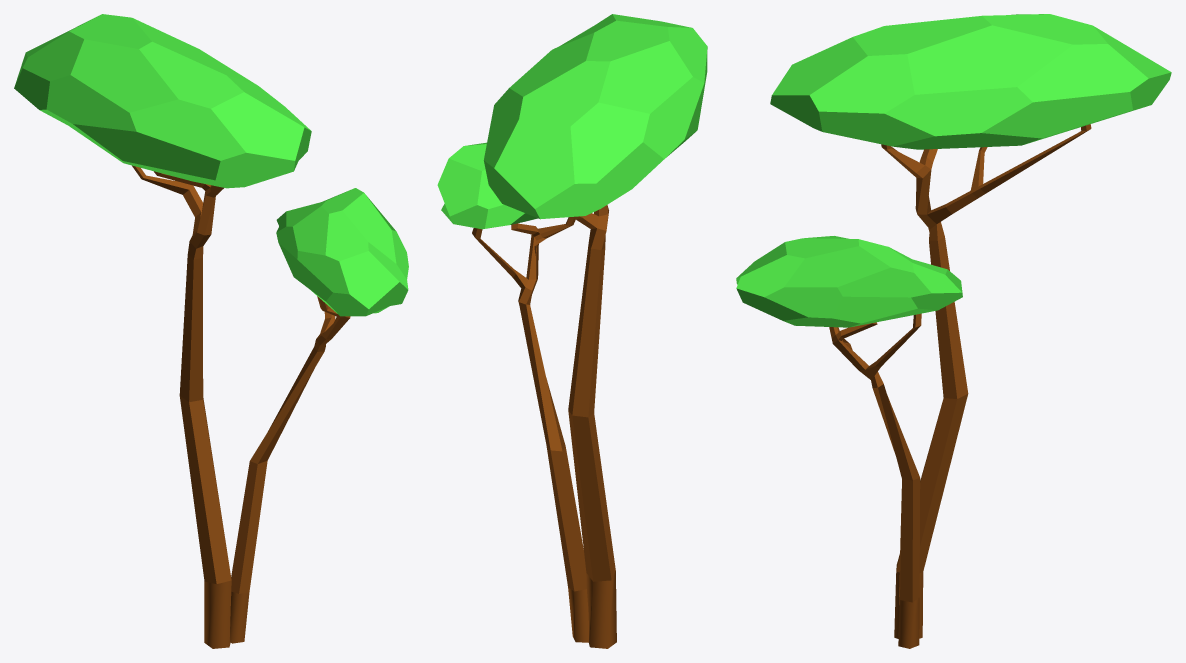
Rendered from tree2.FBX.
3 views of the same model, side by side, from view 1: azimuth 30°, elevation 25°; view 2: azimuth 150°, elevation 25°; view 3: azimuth 270°, elevation 25° (orthographic). The views are drawn at different scales.
Parts seen in each view (by area): view 1: Cylinder001; view 2: Cylinder001; view 3: Cylinder001.
Part boxes in pixels (box(x1,y1,x2,y2)): Cylinder001: box(14, 14, 408, 648); Cylinder001: box(437, 14, 707, 648); Cylinder001: box(736, 14, 1171, 648).
Bounding box in the file's own units: 29.99 × 61.8 × 40.8.
